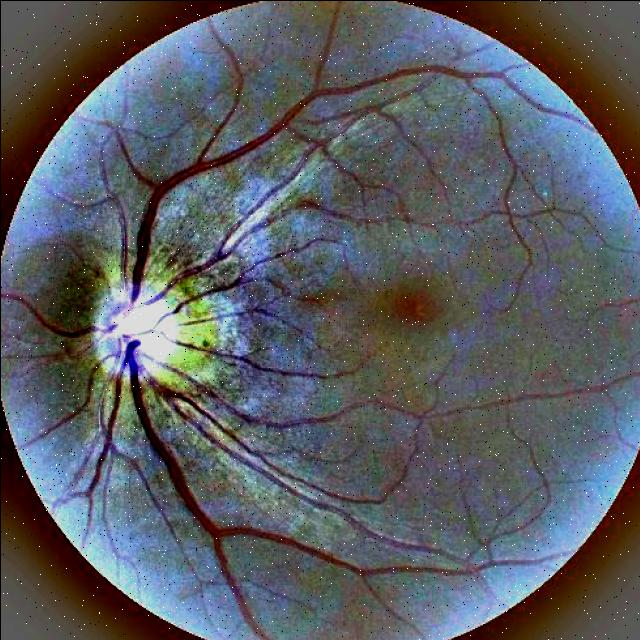Macula: (389, 290, 434, 323)
Nerves: (0, 32, 503, 619)
Optic Disk: (97, 298, 171, 342)
